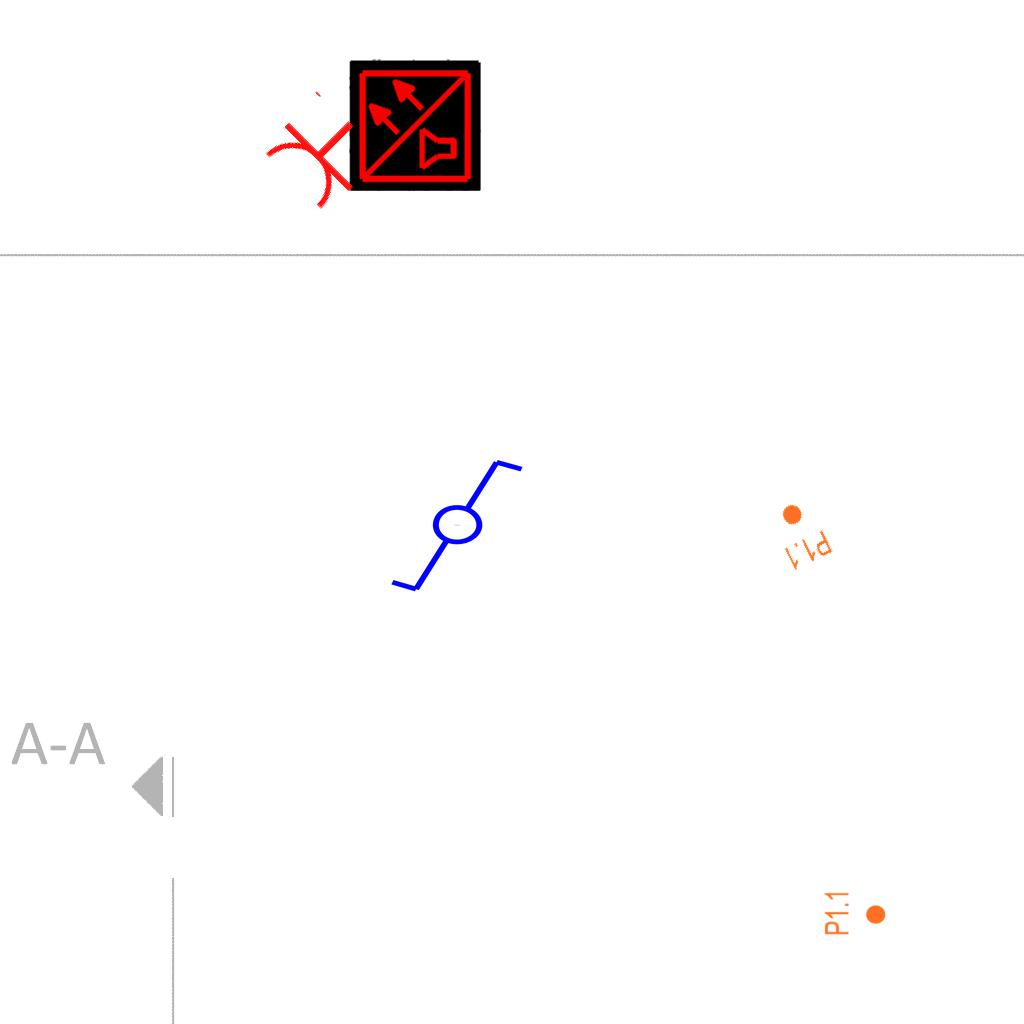Downlight_LED_Einbauleuchten_Flur: (765, 495, 835, 573), (823, 890, 887, 936)
OKW_Multisensormelder_(Kombination_optischer_Rauch-Kahlenmonoxid_Waerme-Melder): (349, 59, 481, 191)
Schukosteckdose_einfach: (254, 85, 387, 219)
Wechselschalter: (387, 455, 544, 599)
